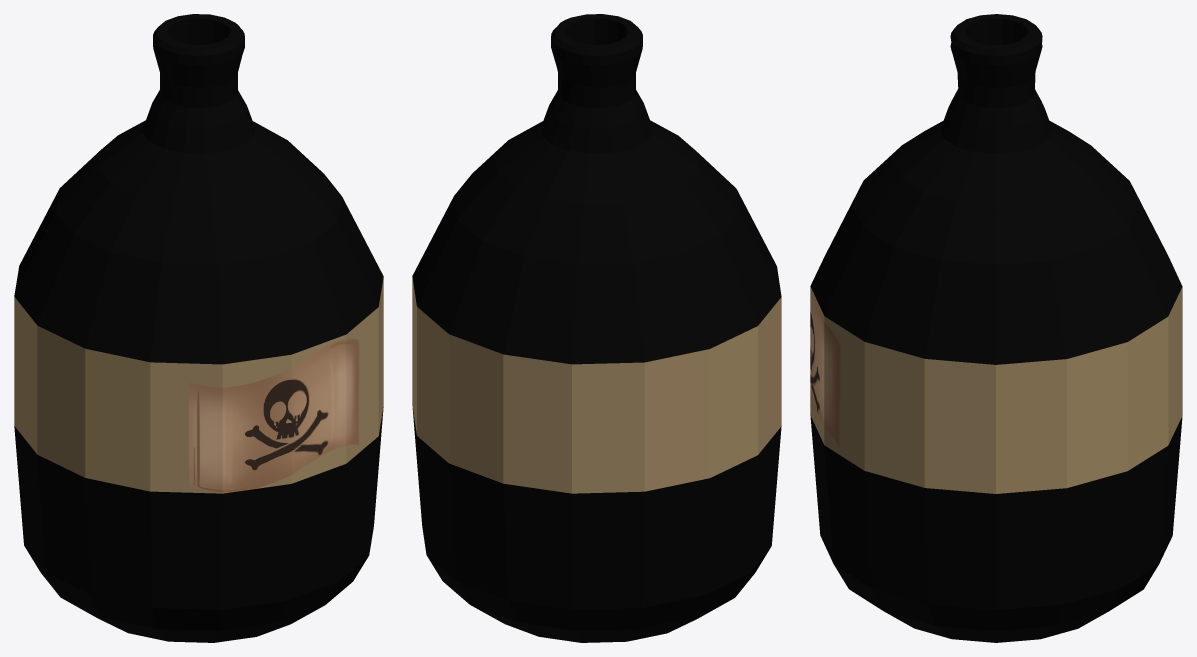
Rendered from PoisonBottle.fbx.
3 views of the same model, side by side, from view 1: azimuth 30°, elevation 25°; view 2: azimuth 150°, elevation 25°; view 3: azimuth 270°, elevation 25° (orthographic).
Parts seen in each view (by area): view 1: WineBottle V3 Aqua.001; view 2: WineBottle V3 Aqua.001; view 3: WineBottle V3 Aqua.001.
Boxes of the visible parts, left/top/right/bottom form: WineBottle V3 Aqua.001: left=14, top=14, right=383, bottom=642; WineBottle V3 Aqua.001: left=412, top=14, right=781, bottom=642; WineBottle V3 Aqua.001: left=810, top=14, right=1182, bottom=642.
Bounding box in the file's own units: 6 × 10 × 6.
